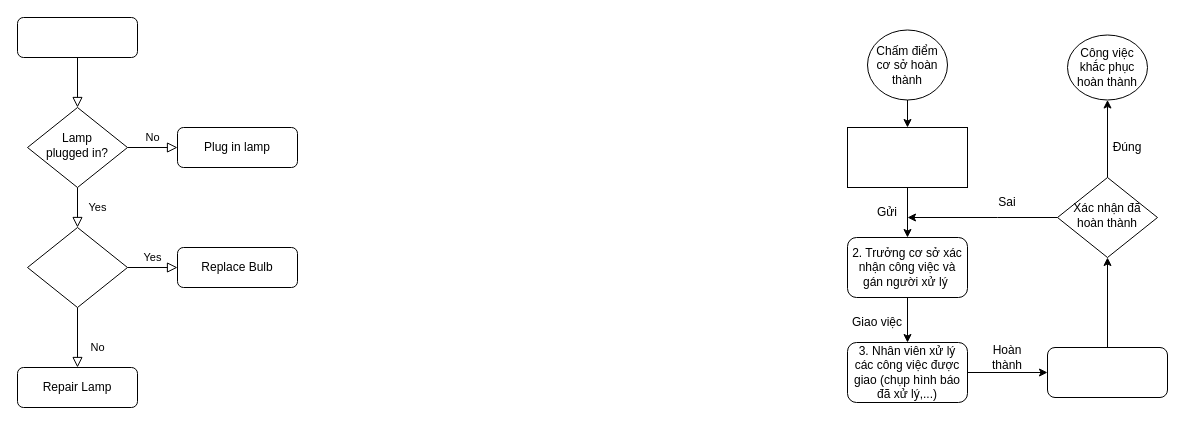
This 1185x425 diagram has some shape labels left out. Here are the shapes that lost their labels. From the top down, the centre of each, then its label:
At pixel 77 37: "Lamp doesn't work".
At pixel 907 157: "1. Hệ thống tự tạo các công việc đề xuất".
At pixel 77 267: "Bulb burned out?".
At pixel 1107 372: "4. Người chấm điểm xác nhận công việc đã hoàn thành".
